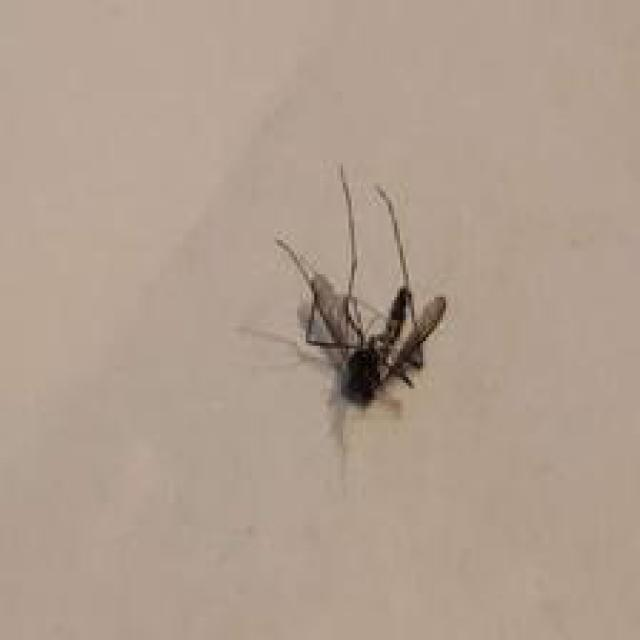Aedes albopictus: (237, 162, 449, 478)
